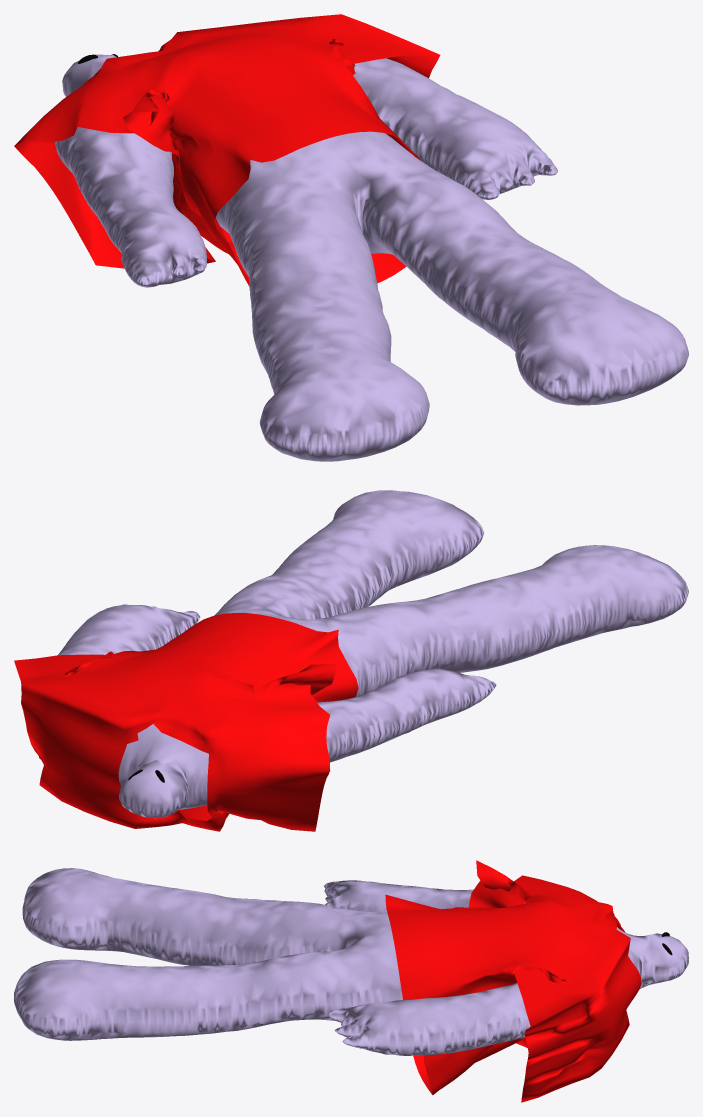
Rendered from p1erson.glb.
The picture shows the model from 3 angles, top to bottom: view 1: azimuth 30°, elevation 25°; view 2: azimuth 150°, elevation 25°; view 3: azimuth 270°, elevation 25°; orthographic projection. The views are drawn at different scales.
Visible parts, largest first — view 1: Icosphere.001, Cube; view 2: Icosphere.001, Cube; view 3: Icosphere.001, Cube.
Part boxes in pixels (x1,y1,x2,y2): Icosphere.001: (54,54,688,461); Cube: (14,14,440,285); Icosphere.001: (58,490,688,818); Cube: (14,613,358,831); Icosphere.001: (14,868,688,1055); Cube: (385,860,641,1102).
Bounding box in the file's own units: 4.77 × 1.88 × 7.68.
